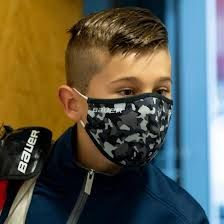with-mask: (51, 39, 186, 170)
